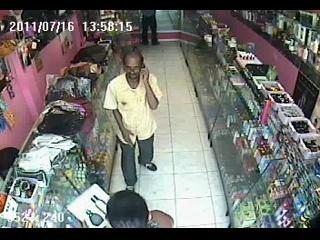Normal: (102, 48, 163, 192), (140, 10, 160, 46)
